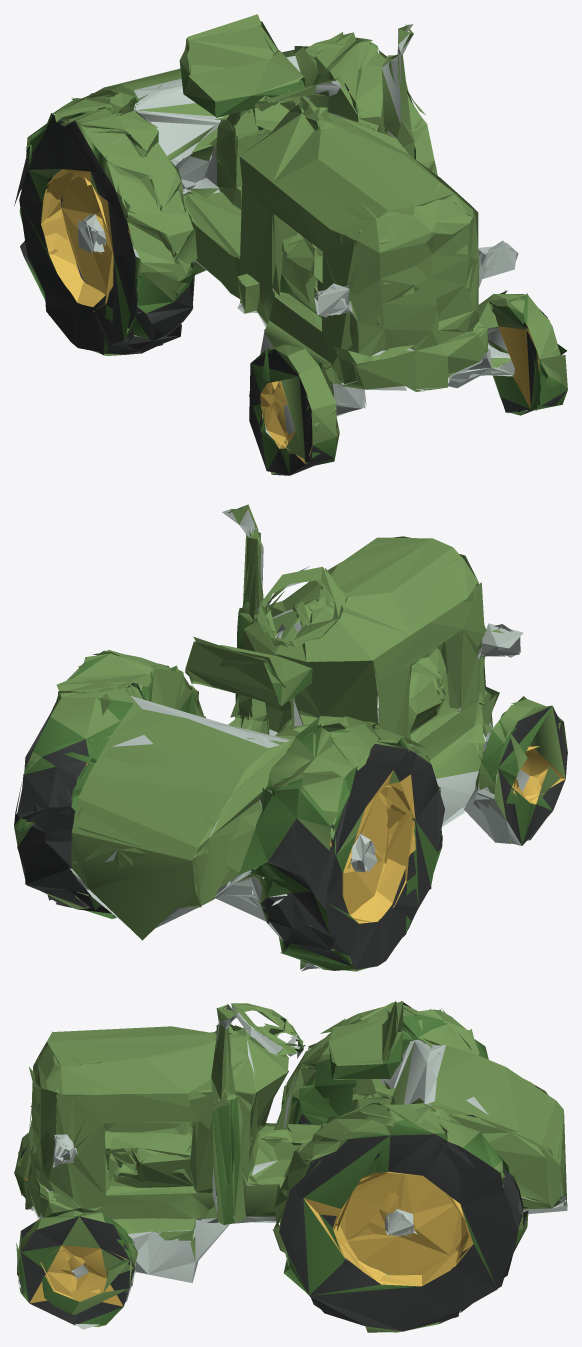
File: ENV_06_TRACTOR_game.glb
3 views of the same model, one above another, from view 1: azimuth 30°, elevation 25°; view 2: azimuth 150°, elevation 25°; view 3: azimuth 270°, elevation 25° (orthographic). The views are drawn at different scales.
Visible parts, largest first — view 1: ENV_06_TRACTOR; view 2: ENV_06_TRACTOR; view 3: ENV_06_TRACTOR.
Part boxes in pixels (<box>): ENV_06_TRACTOR: <box>14,14,567,475</box>; ENV_06_TRACTOR: <box>14,504,567,971</box>; ENV_06_TRACTOR: <box>14,1001,567,1332</box>.
Bounding box in the file's own units: 2.07 × 2.2 × 3.61.
